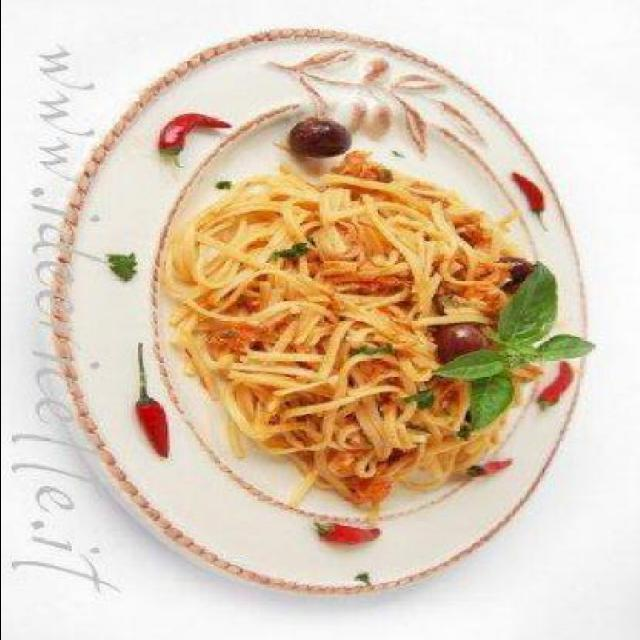Oil pasta: (128, 93, 580, 530)
